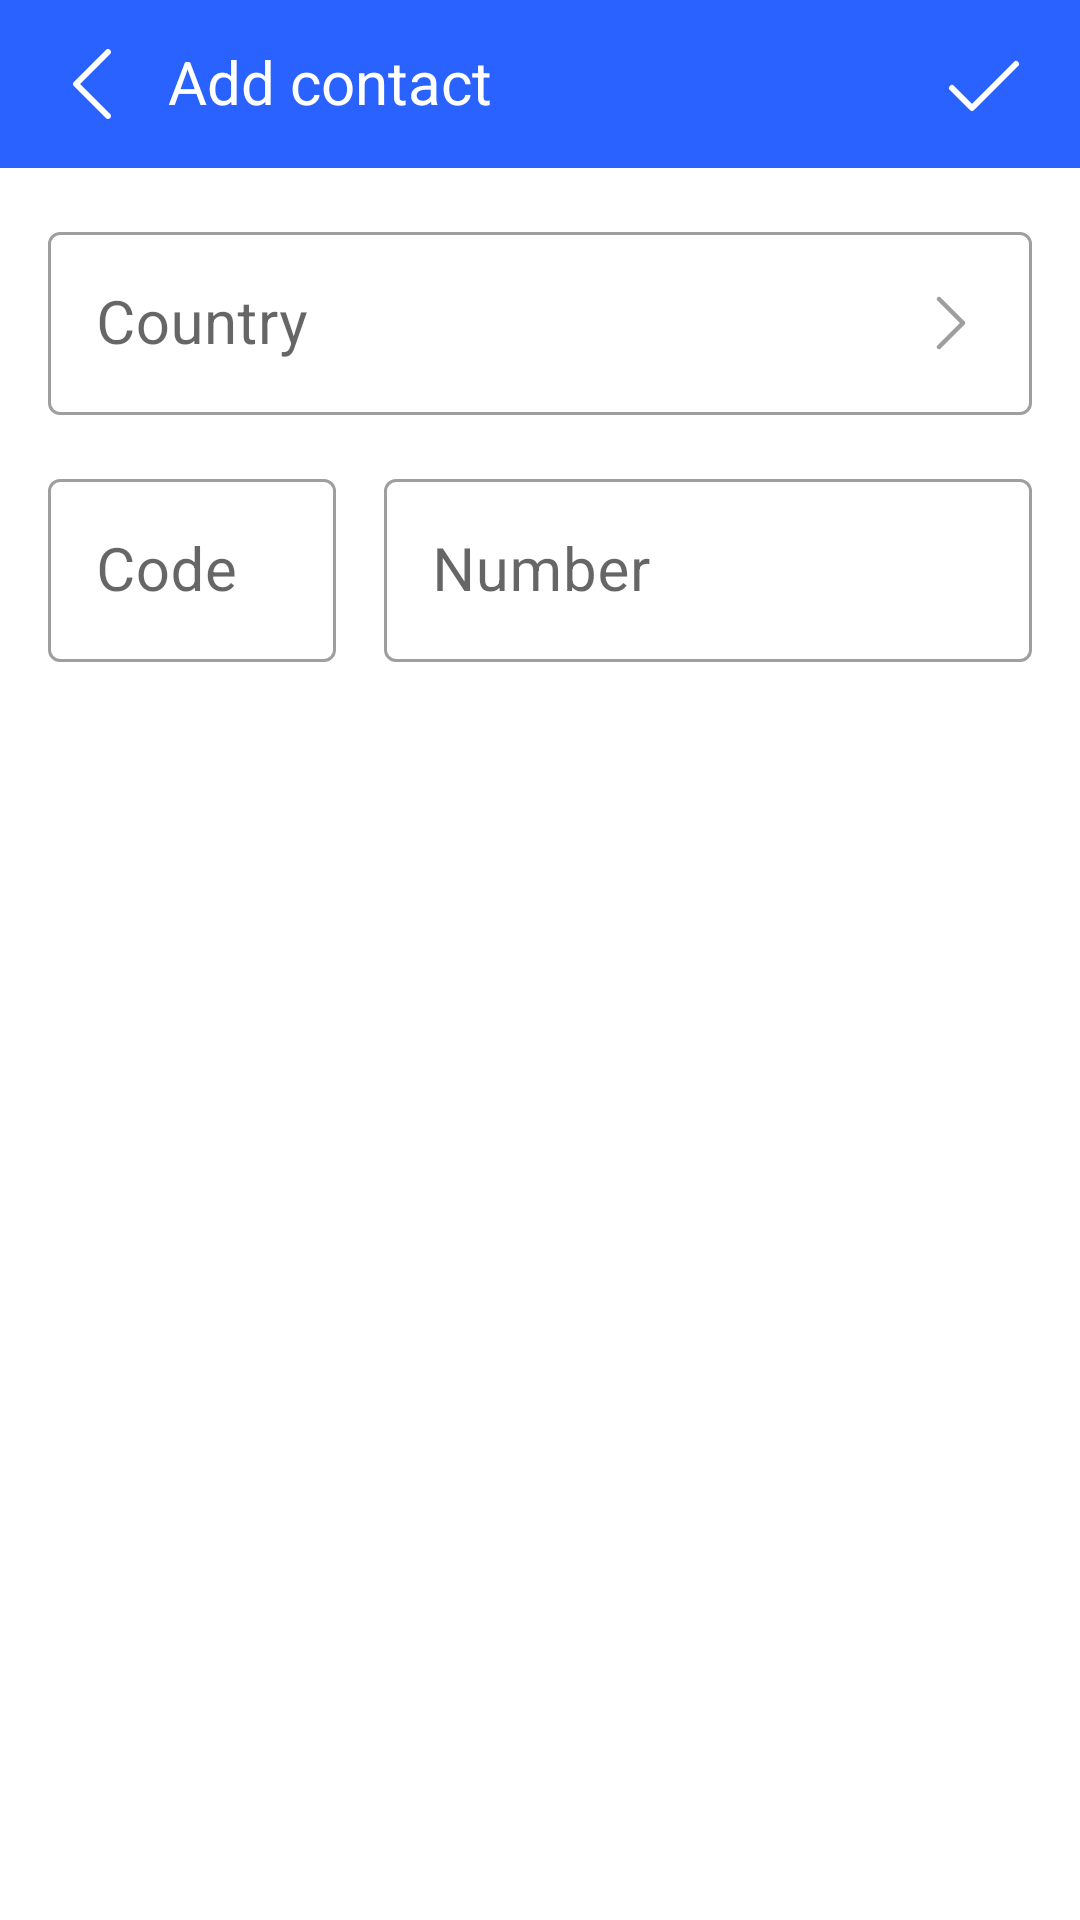

Screen size 1080×1920. Icon name, then its box in pixels as [left=x1, top=y1, right=x2, bottom=y2]:
back: [left=73, top=49, right=111, bottom=119]
done: [left=949, top=60, right=1019, bottom=111]
